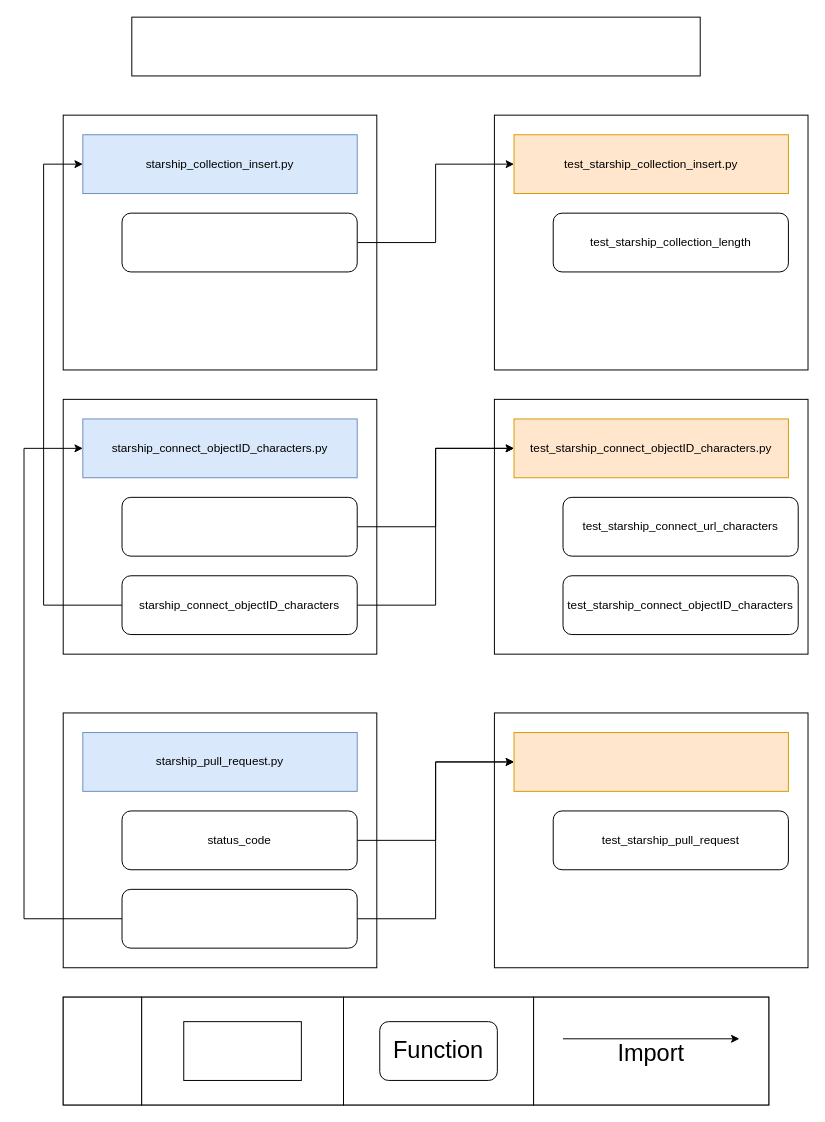
Image size: 825x1122. Some labels were removed from this diagram. Here are the shapes that lost their labels. From the top down, the centre of each, then its label:
At (x=415, y=46): "Star Wars API Project README".
At (x=239, y=242): "collection_insert".
At (x=239, y=526): "starship_connect_url_characters".
At (x=650, y=761): "test_starship_pull_request.py".
At (x=239, y=918): "transform_starship_data".
At (x=102, y=1050): "Key".
At (x=242, y=1050): "File".
